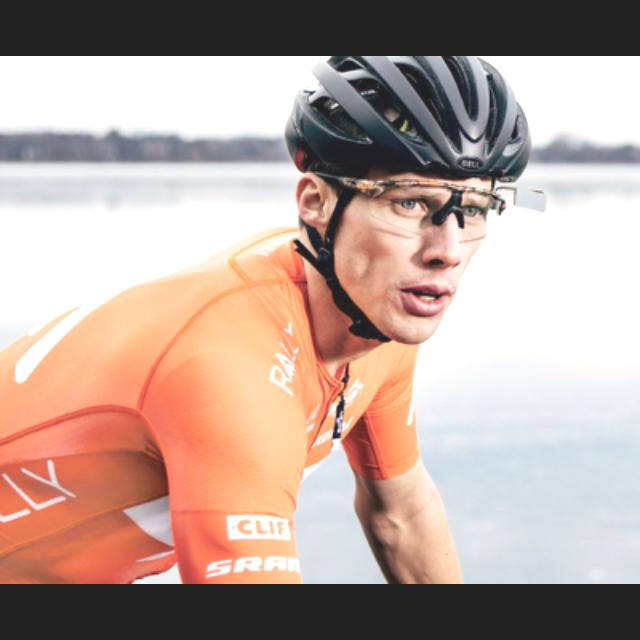With Helmet: (276, 55, 536, 348)
